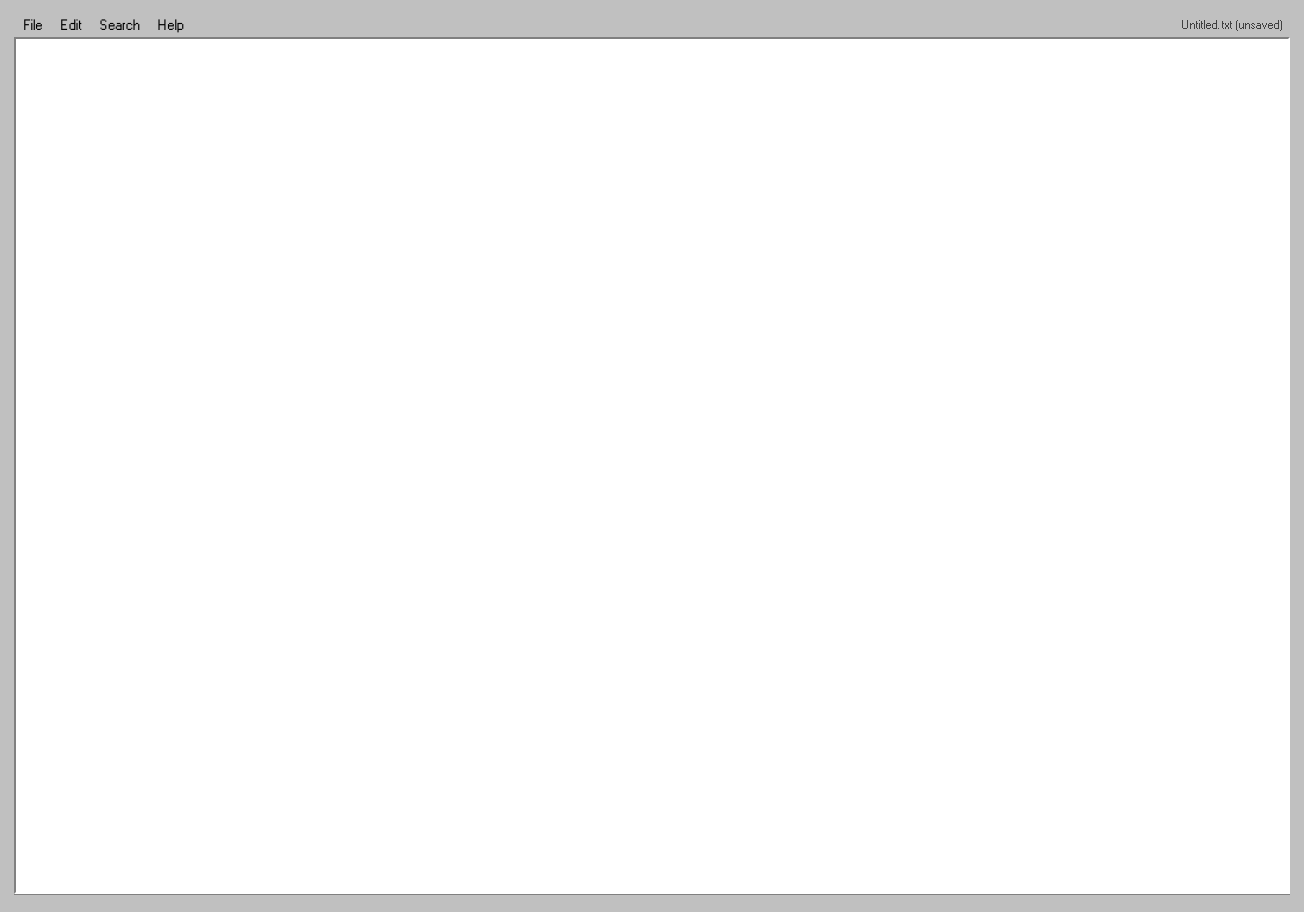
Test: Notepad menus › Copy puts the selection on the clipboard; Cut also removes it
The image size is (1304, 912).
Step 1. Type "abcdef" into the text box with class "notepad-textarea" → [652, 466], box [14,37,1290,894]
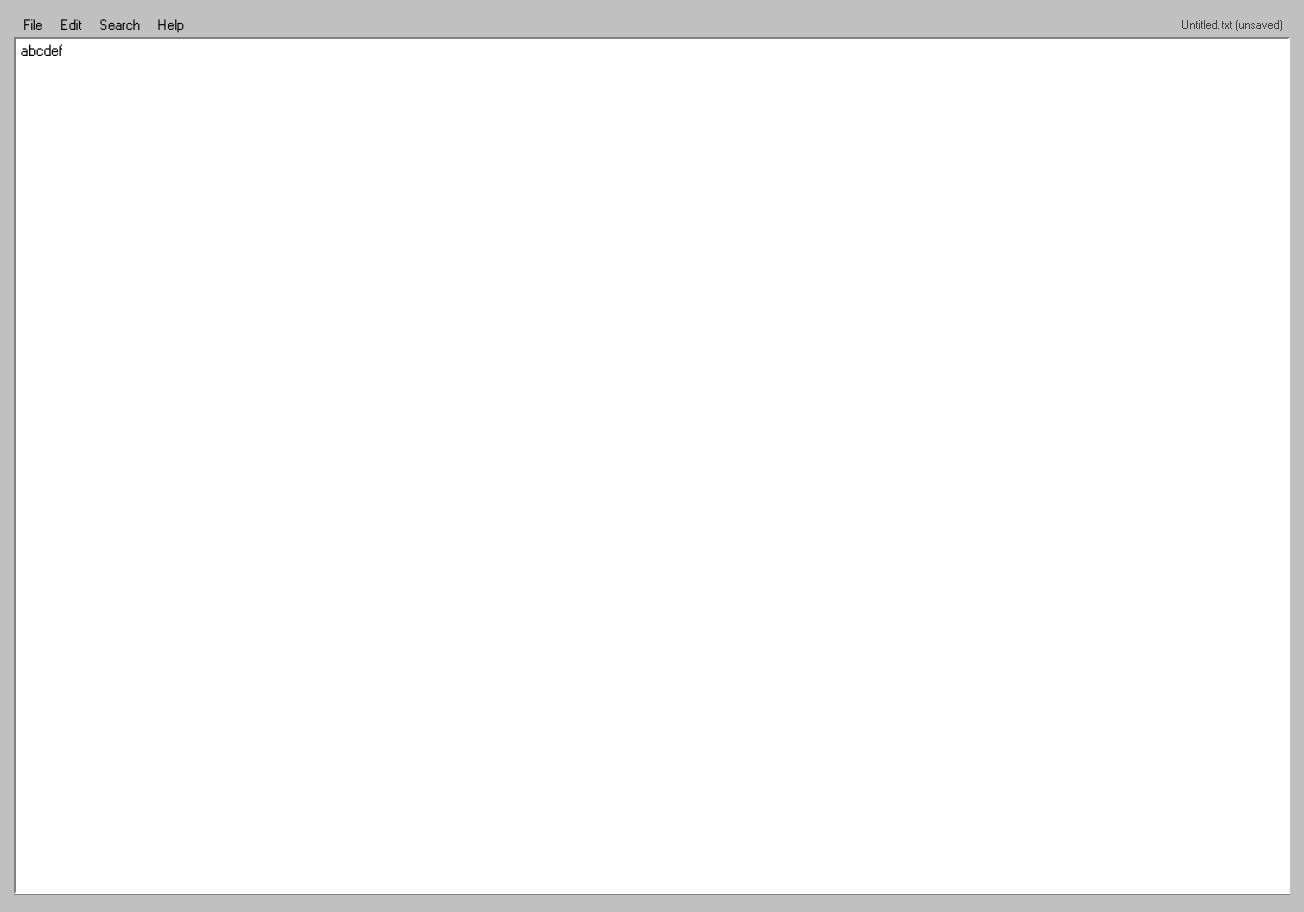
Step 2. Click the menu item "Edit" → [71, 25], box [51,15,90,35]
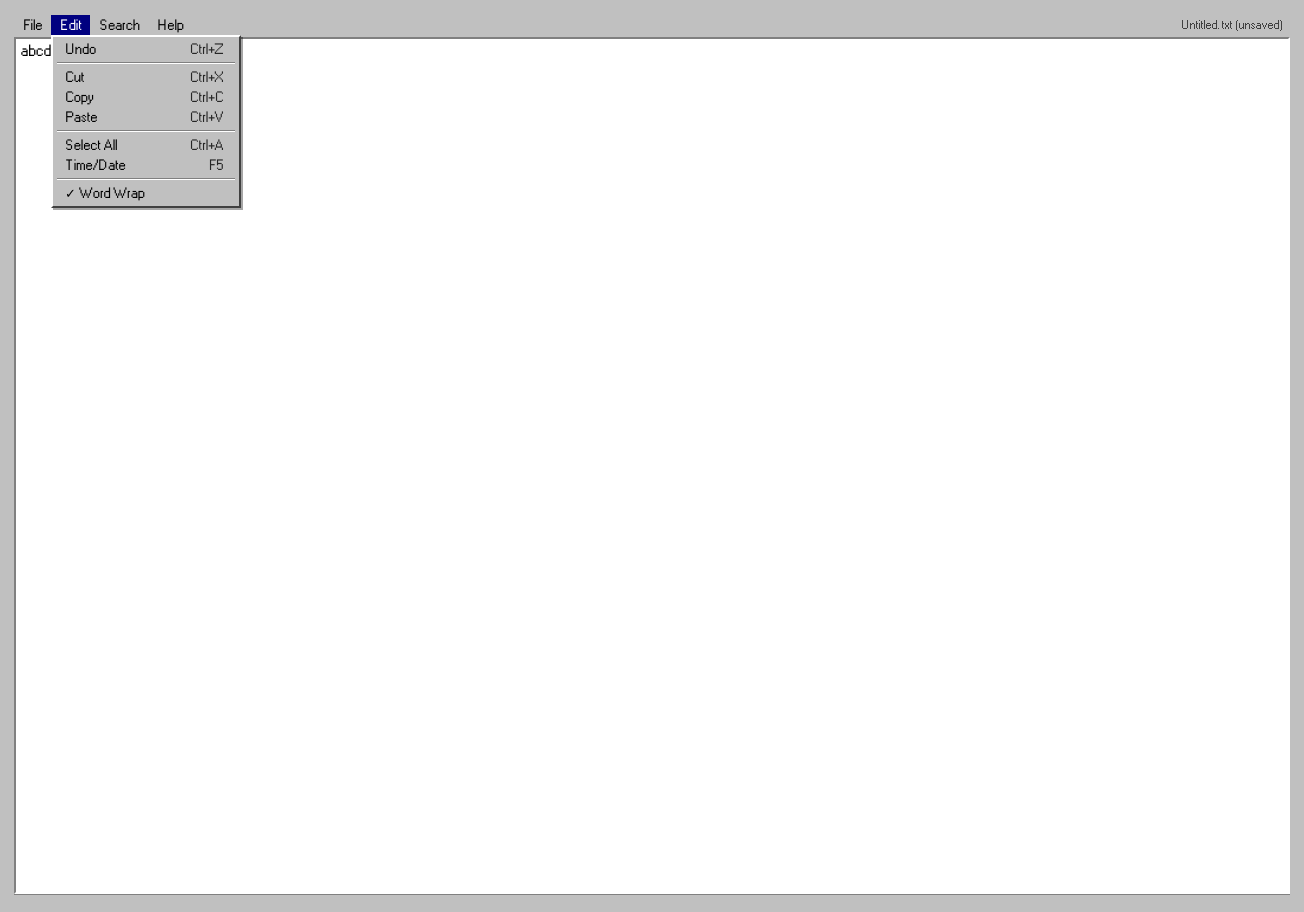
Step 3. Click the menu item "Copy Ctrl+C" → [146, 97], box [55,87,237,107]
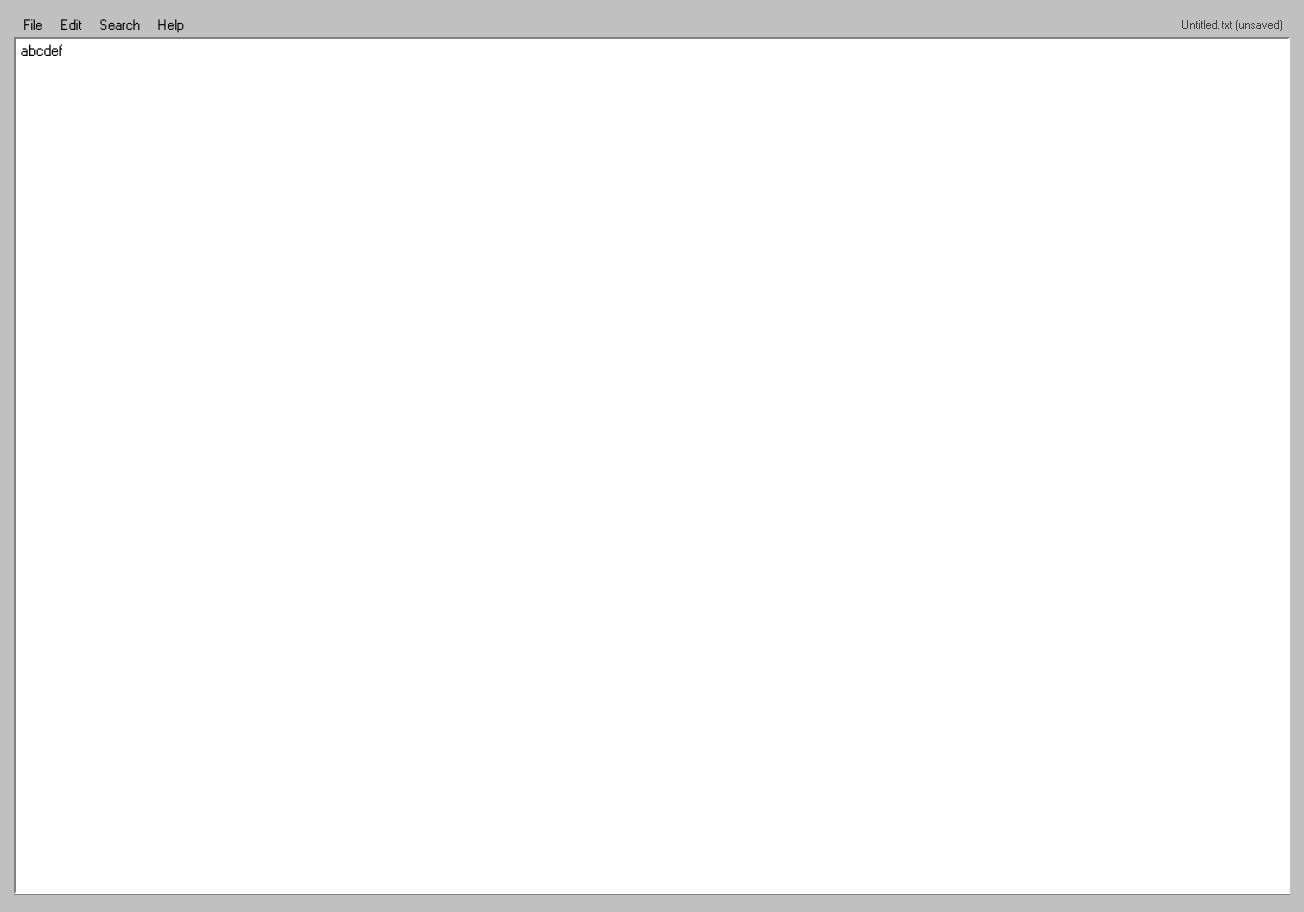
Step 4. Click the menu item "Edit" → [71, 25], box [51,15,90,35]
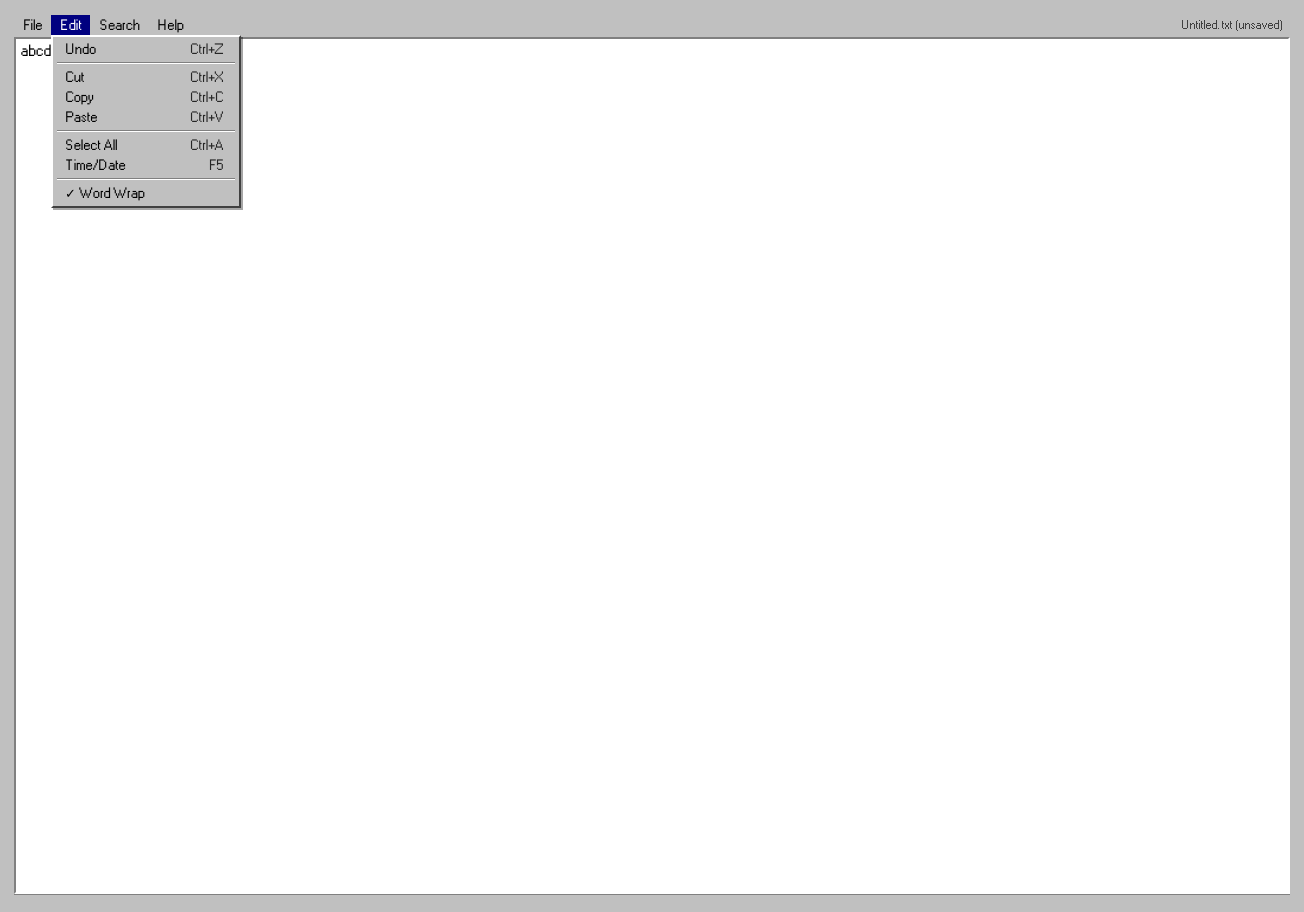
Step 5. Click the menu item "Cut Ctrl+X" → [146, 77], box [55,67,237,87]
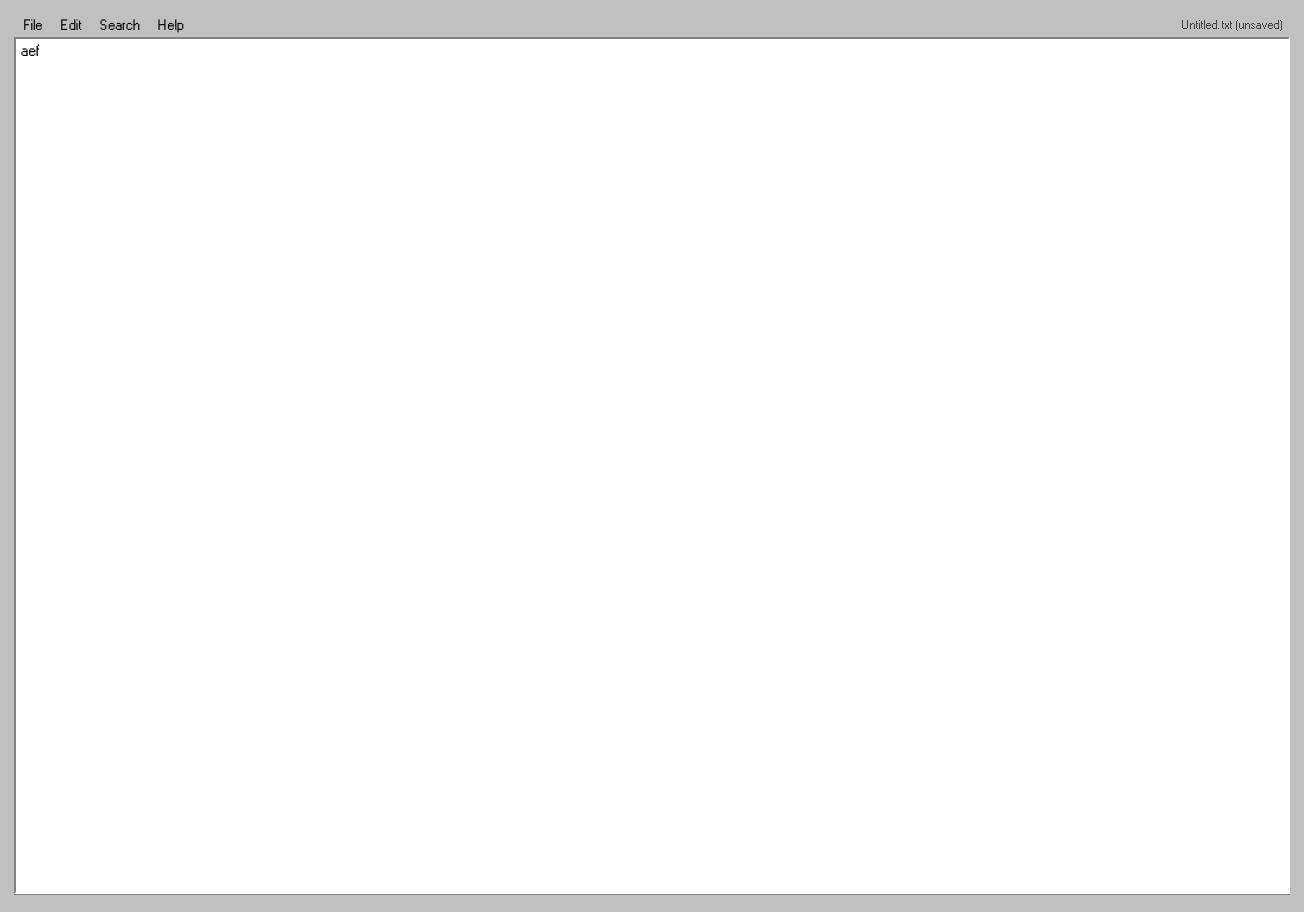
Result: the text box with class "notepad-textarea" holds "aef"
